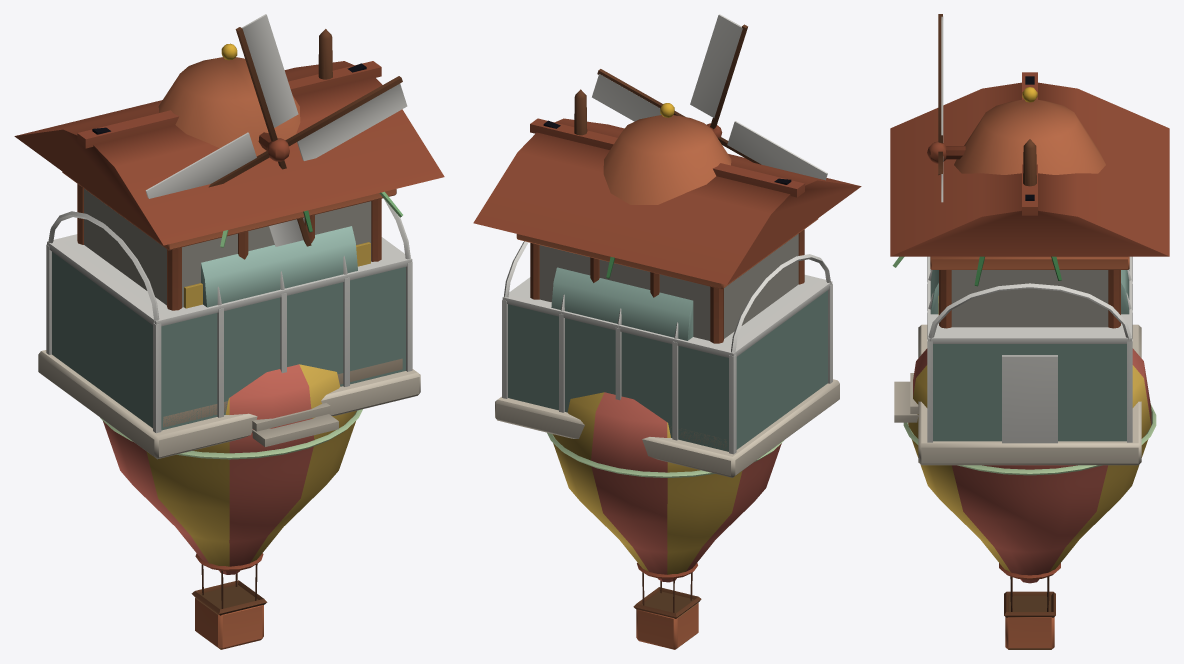
The model's file is kit-giardino.glb.
3 views of the same model, side by side, from view 1: azimuth 30°, elevation 25°; view 2: azimuth 150°, elevation 25°; view 3: azimuth 270°, elevation 25° (orthographic). The views are drawn at different scales.
Parts seen in each view (by area): view 1: santuario, serra, mongolfiera, mulino; view 2: santuario, serra, mongolfiera, mulino; view 3: santuario, serra, mongolfiera, mulino.
Boxes of the visible parts, box(x1,y1,x2,y2) form: santuario: box(14, 29, 444, 459); serra: box(46, 198, 412, 433); mongolfiera: box(100, 364, 362, 649); mulino: box(145, 14, 407, 246); santuario: box(473, 89, 861, 477); serra: box(502, 241, 832, 454); mongolfiera: box(547, 392, 783, 649); mulino: box(592, 14, 827, 204); santuario: box(890, 72, 1169, 465); serra: box(927, 256, 1132, 443); mongolfiera: box(903, 348, 1156, 649); mulino: box(927, 14, 1105, 202).
Bounding box in the file's own units: 4 × 8.51 × 3.5.
